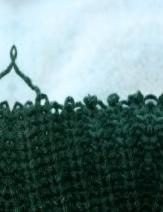snag: (1, 44, 46, 107)
